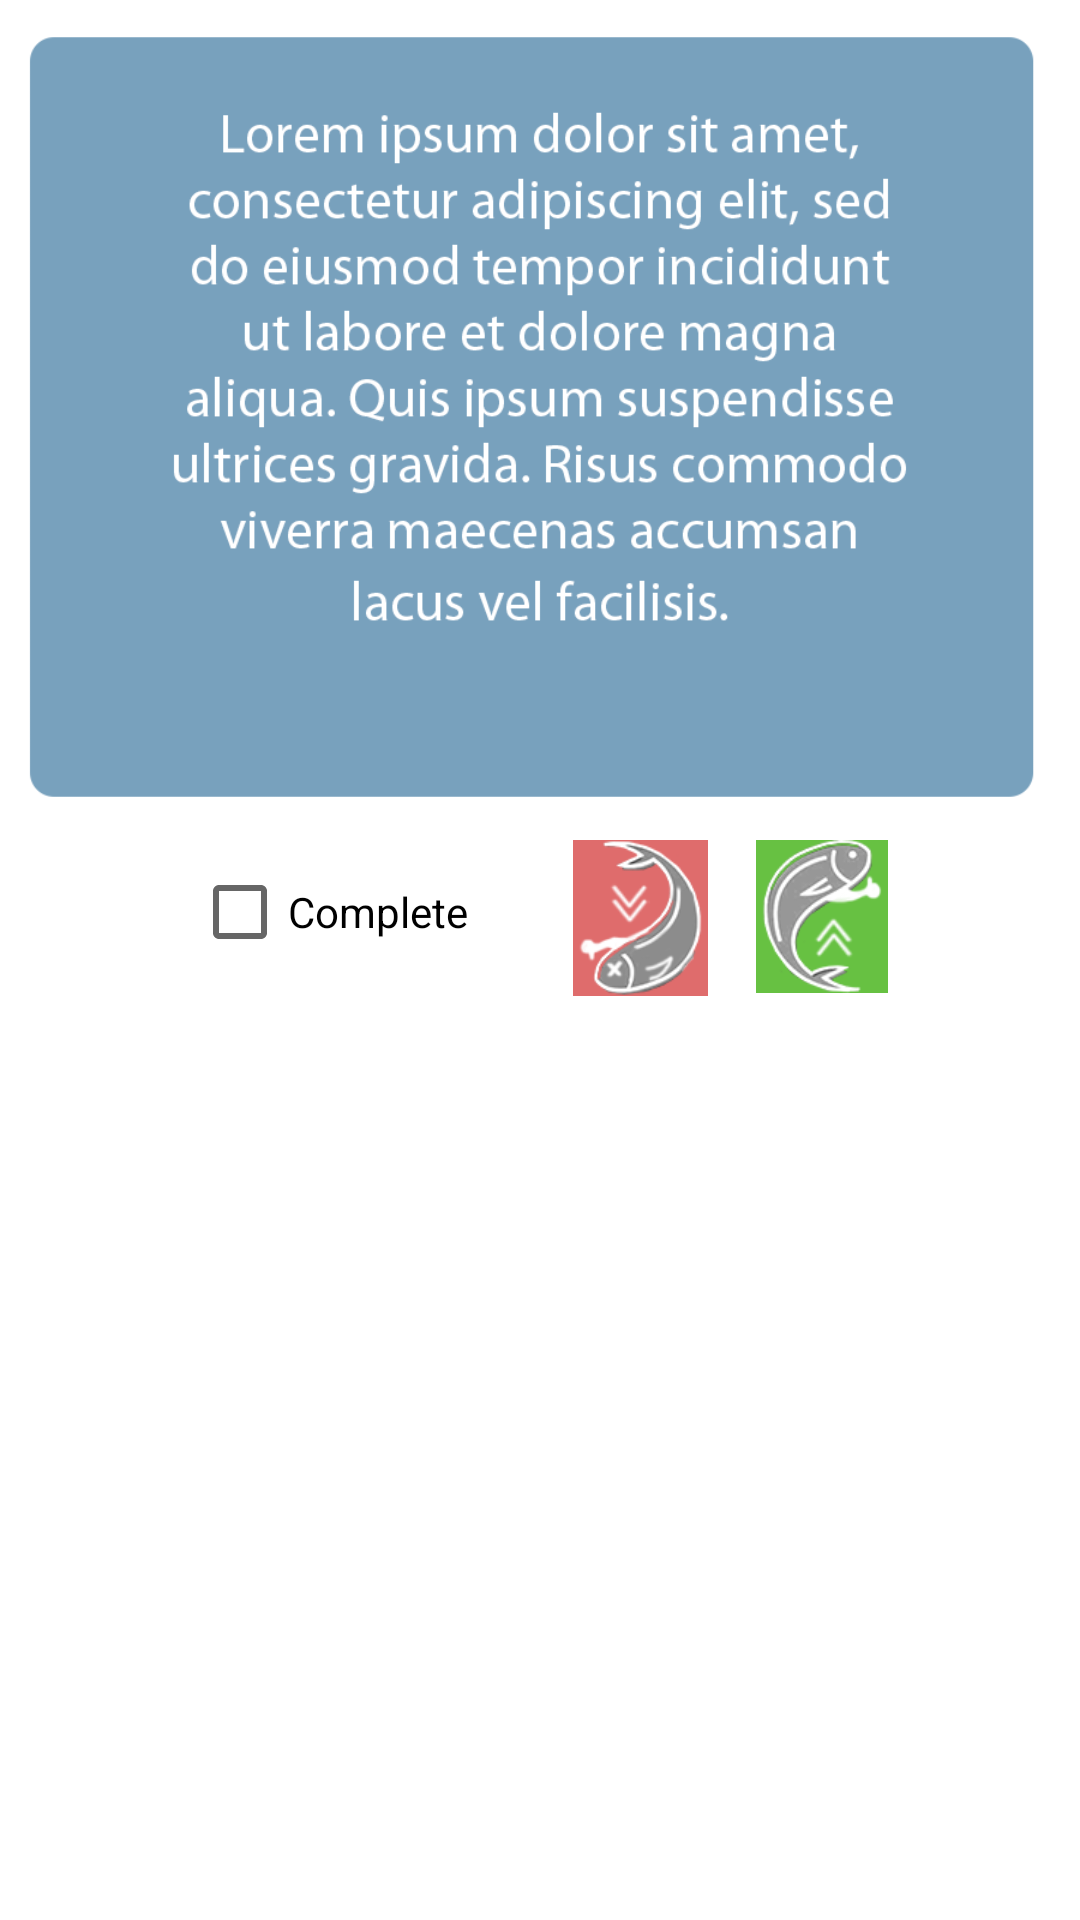

Icons on this 1080 x 1920 Android screen, each with its box as (x1, y1, x2, y2):
dislike: (573, 840, 708, 996)
like: (756, 840, 888, 993)
